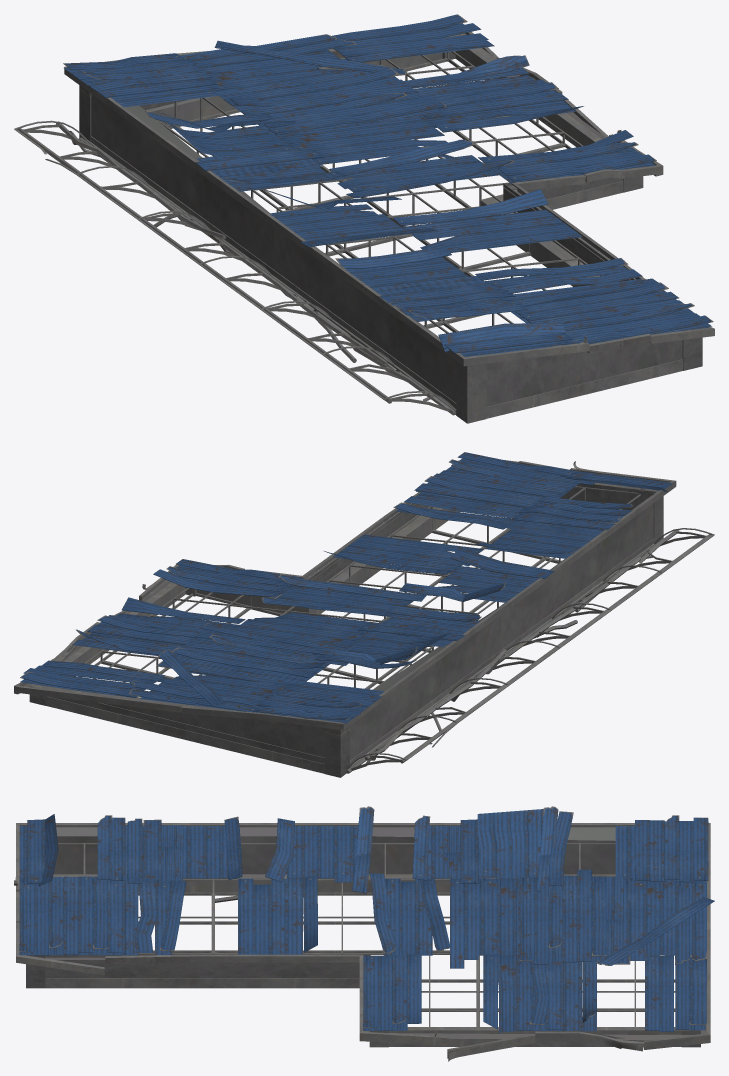
Rendered from Archery_Roof.fbx.
3 views of the same model, one above another, from view 1: azimuth 30°, elevation 25°; view 2: azimuth 150°, elevation 25°; view 3: azimuth 270°, elevation 25° (orthographic). The views are drawn at different scales.
Visible parts, largest first — view 1: Archery_Roof; view 2: Archery_Roof; view 3: Archery_Roof.
Boxes of the visible parts, x1=… form: Archery_Roof: x1=14, y1=14, x2=714, y2=423; Archery_Roof: x1=14, y1=452, x2=714, y2=777; Archery_Roof: x1=14, y1=806, x2=714, y2=1061.
Bounding box in the file's own units: 1299 × 288 × 1917.
